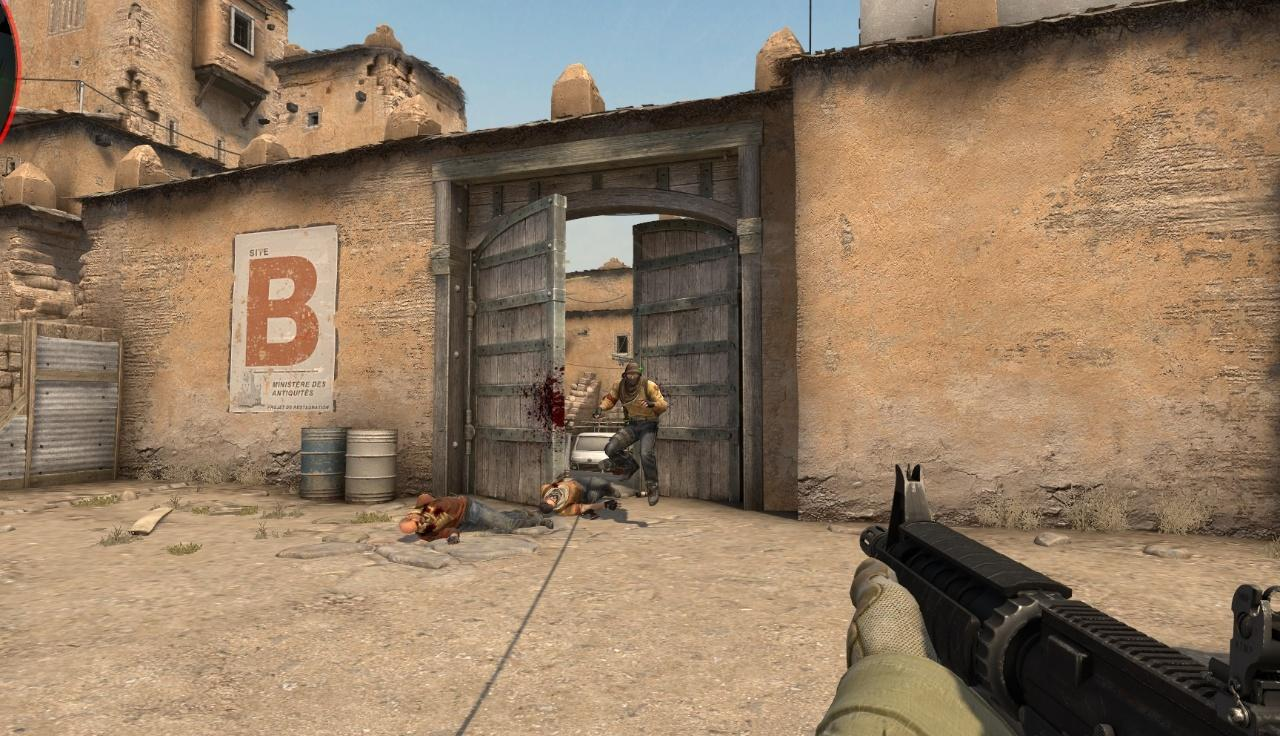rifle: (860, 465, 1280, 736)
tt: (607, 363, 663, 506)
tthead: (624, 363, 641, 388)
